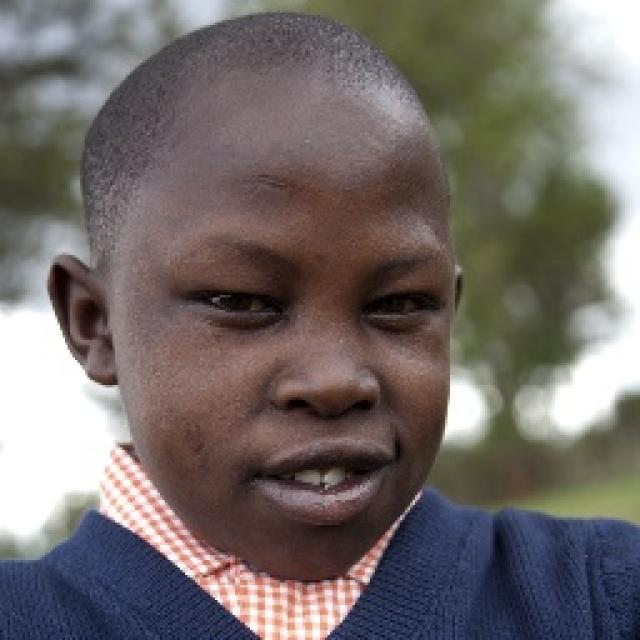earlobe: (87, 336, 122, 386)
eye: (188, 286, 280, 318), (364, 290, 440, 321)
nose: (270, 391, 388, 458)
wholeear: (46, 253, 122, 386)
